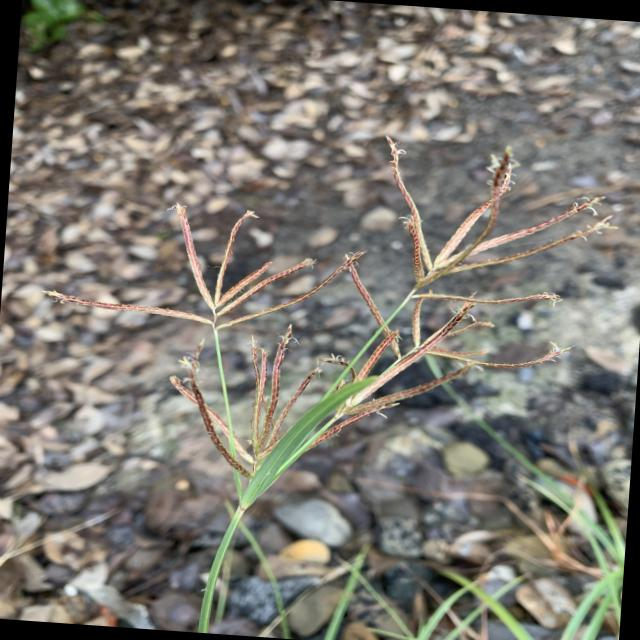cyperus: (28, 103, 627, 520)
